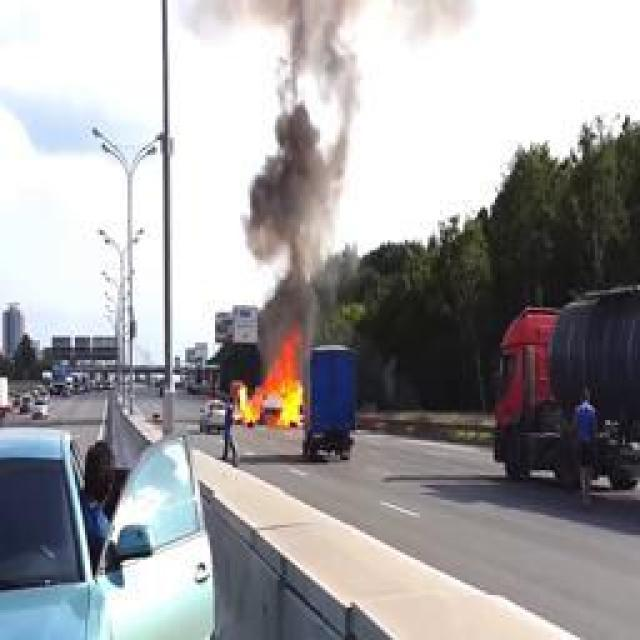Fire: (237, 324, 305, 428)
